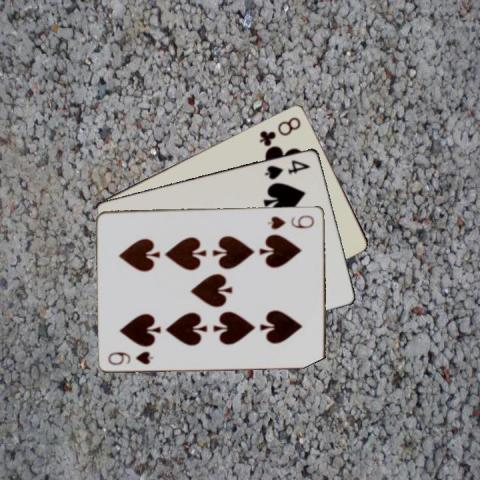4s: (261, 156, 312, 180)
8c: (256, 113, 303, 146)
9s: (105, 348, 156, 367), (265, 212, 315, 231)
